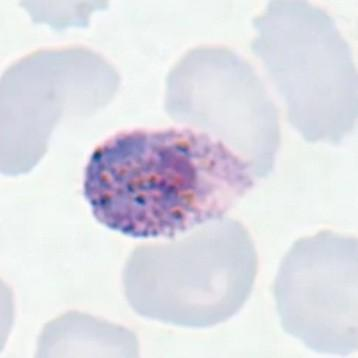Infected: (83, 126, 252, 239)
Uninfected: (0, 44, 120, 176), (165, 46, 281, 182), (120, 218, 260, 329), (252, 0, 358, 144), (272, 231, 358, 358)
